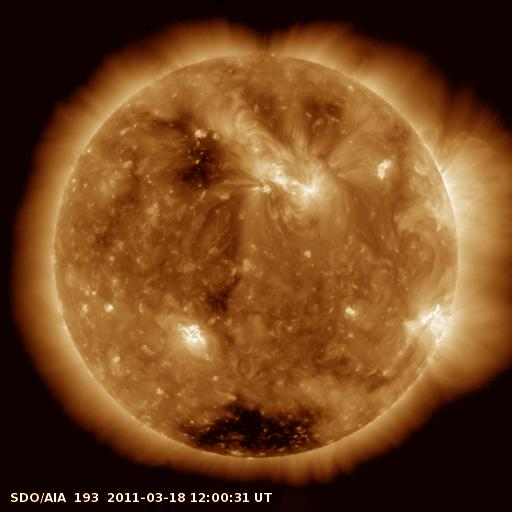coronal_hole: (175, 398, 336, 463), (180, 139, 221, 193)
